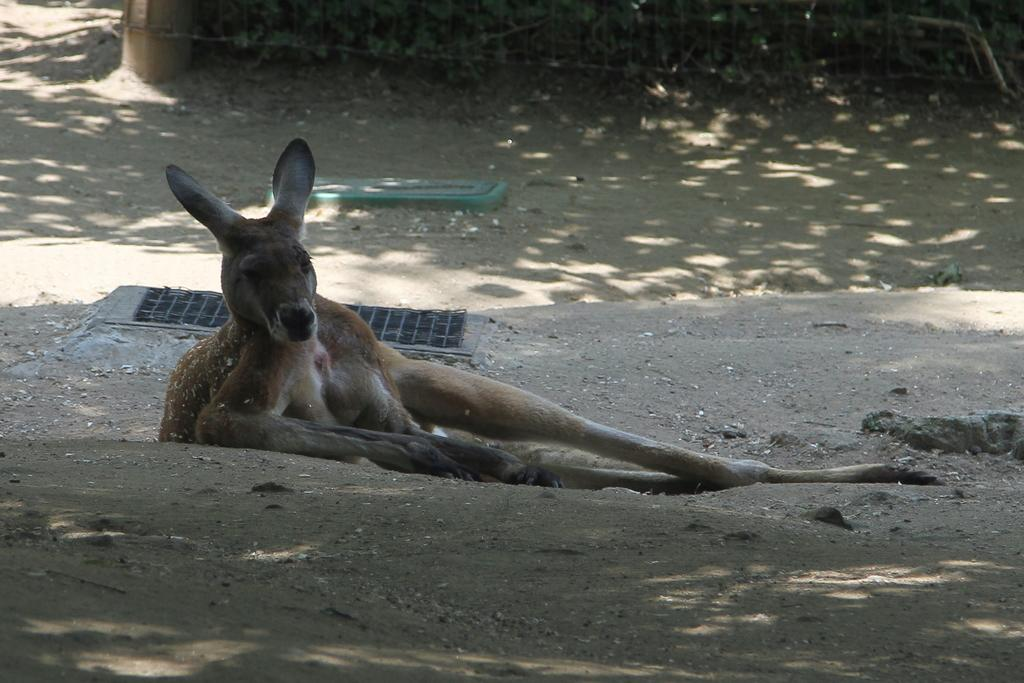kangaroo: (160, 135, 942, 486)
